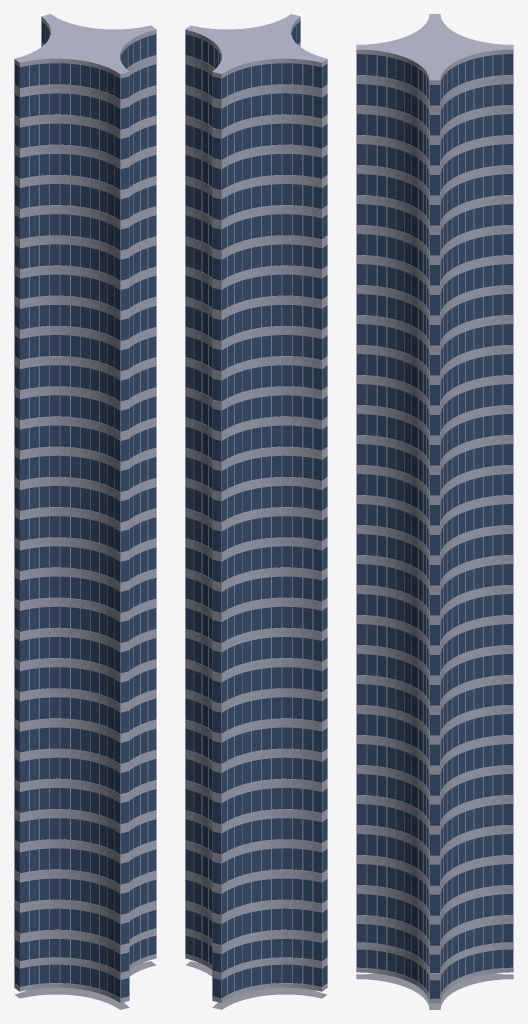
File: building1.fbx
3 renders of one model, left to right at view 1: azimuth 30°, elevation 25°; view 2: azimuth 150°, elevation 25°; view 3: azimuth 270°, elevation 25°, orthographic.
Parts seen in each view (by area): view 1: polySurface104; view 2: polySurface104; view 3: polySurface104.
Boxes of the visible parts, x1,y1,x2,y2 form: polySurface104: (14, 14, 156, 1009); polySurface104: (185, 14, 327, 1009); polySurface104: (356, 14, 513, 1009).
Size of the model in its own units: 258723 by 1690331 by 258723.
